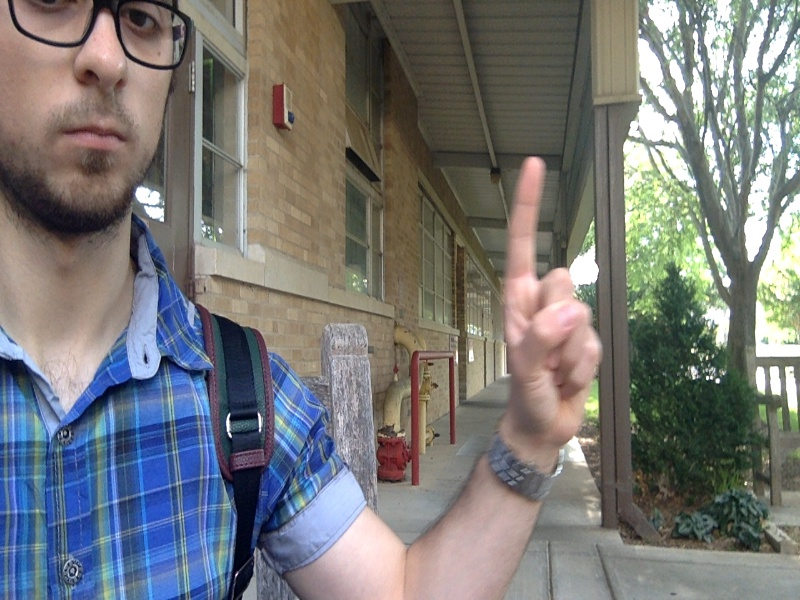1-hand: (507, 157, 604, 438)
